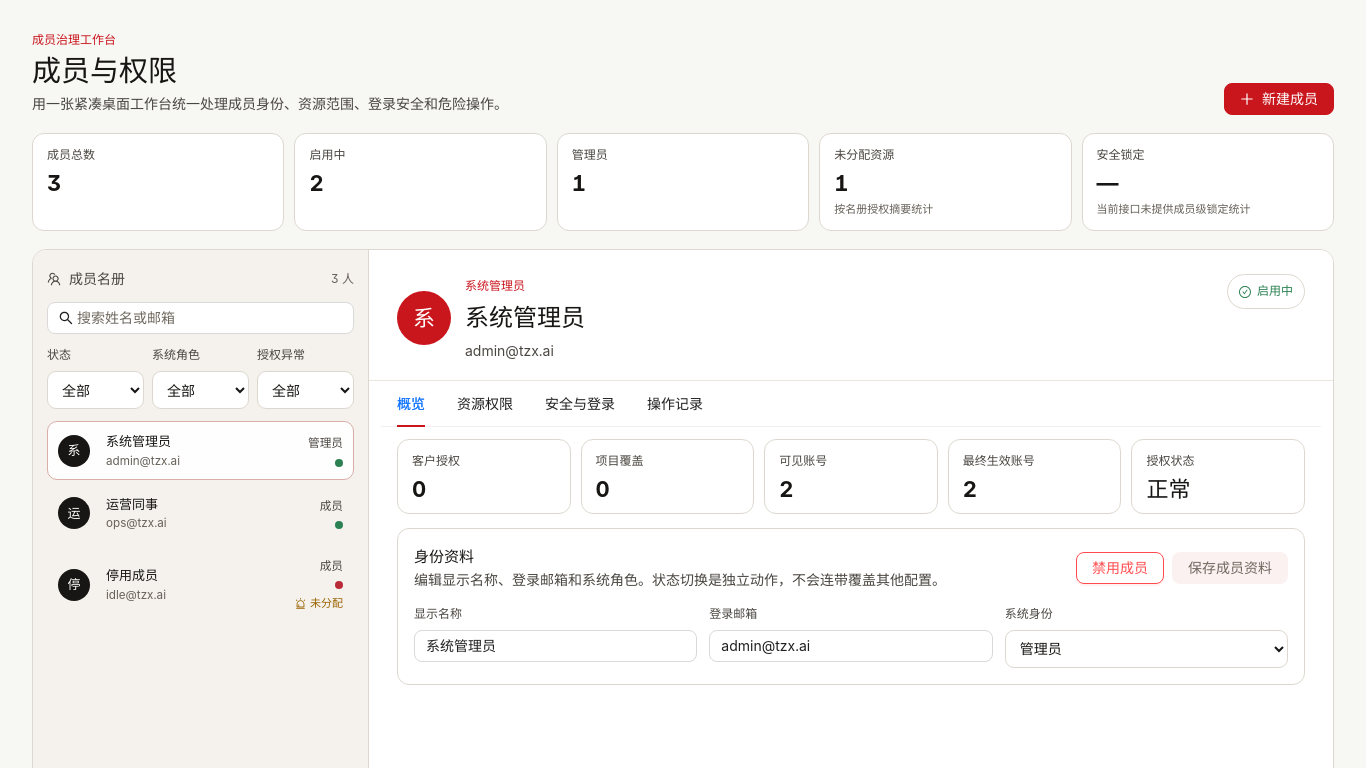
Test: Users › renders legacy incomplete member access as read-only without overwriting authorization
This screenshot has width=1366, height=768.
Click the button "运 运营同事 ops@tzx.ai 成员": (74, 513) [47, 484, 354, 543]
(page scrolled)
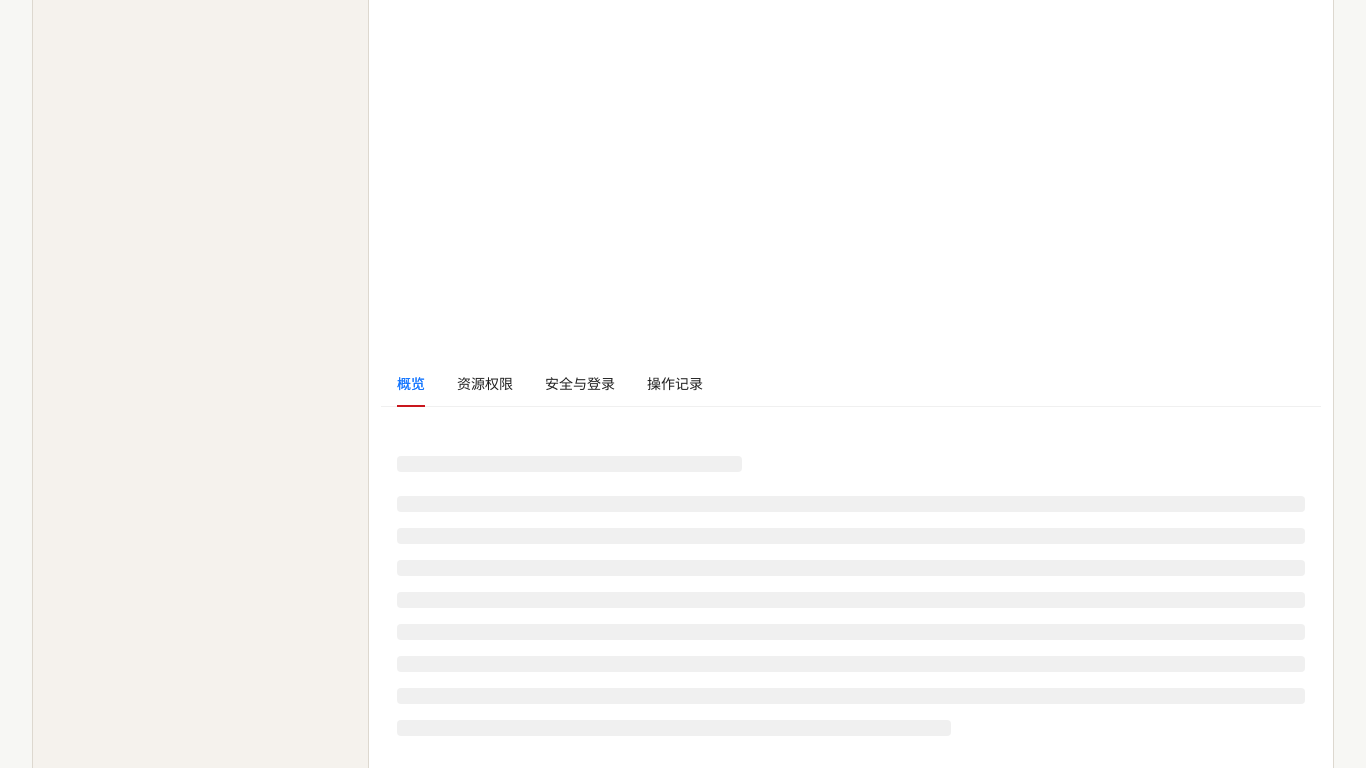
Click the tab "资源权限": (485, 384) [457, 373, 513, 395]
(page scrolled)
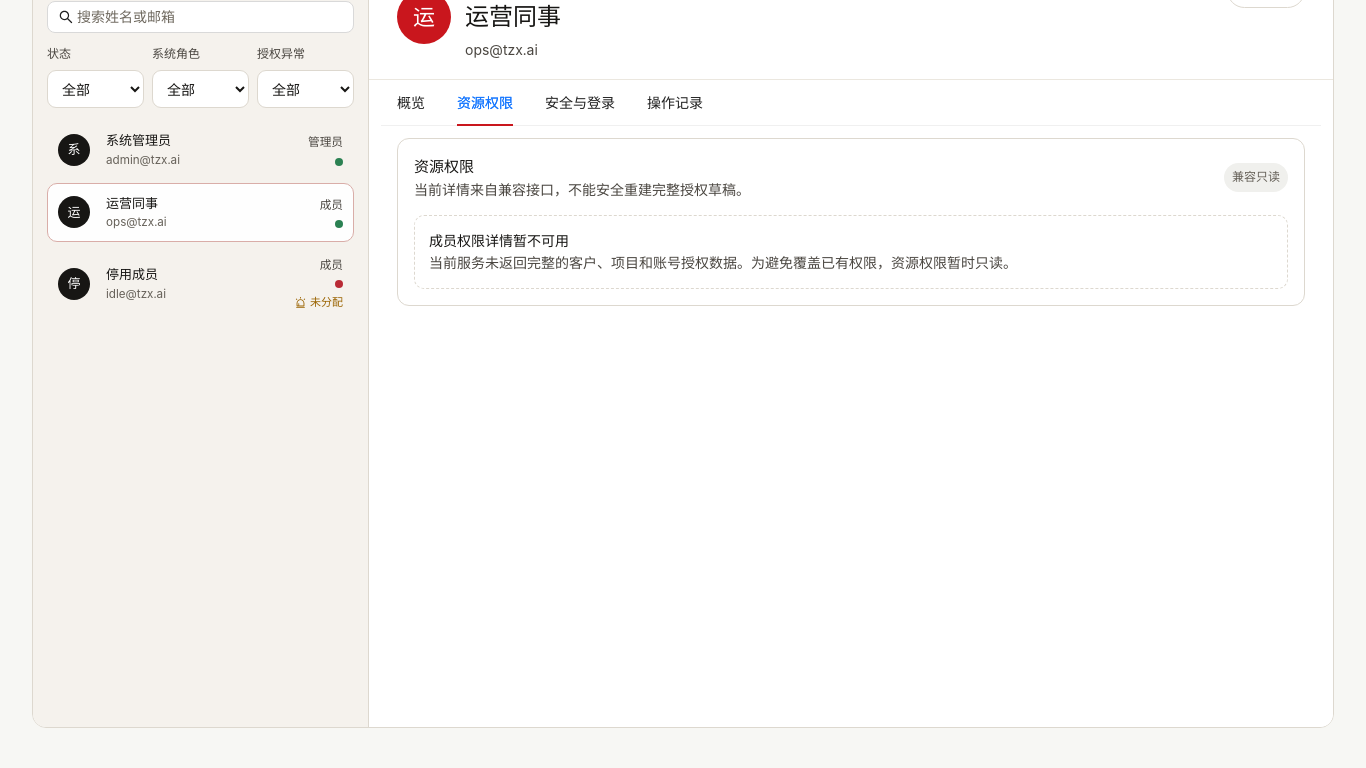
Now the text "成员权限详情暂不可用" is shown, box [429, 232, 569, 249]
Now the text "当前服务未返回完整的客户、项目和账号授权数据。为避免覆盖已有权限，资源权限暂时只读。" is shown, box [429, 254, 1017, 271]
